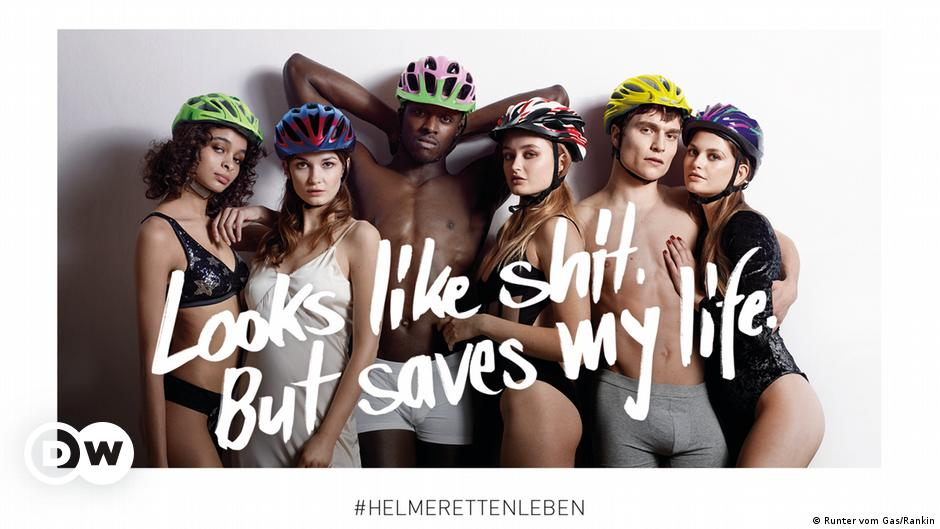helmet: (491, 97, 587, 196), (604, 75, 690, 181), (172, 94, 264, 193), (396, 56, 476, 164), (274, 102, 355, 206), (683, 103, 765, 195)
